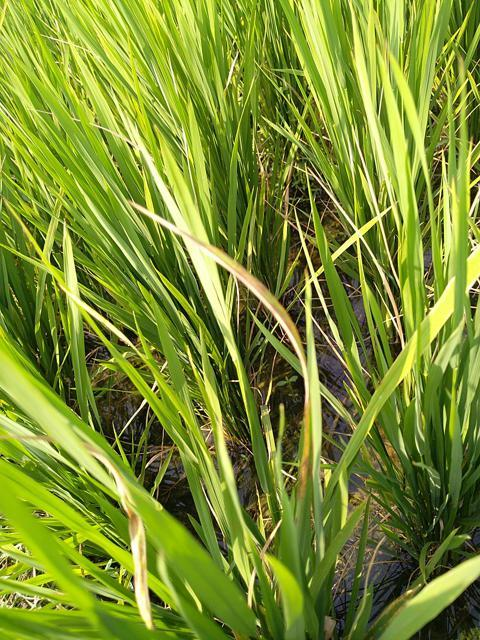Leaf Blight: (131, 201, 310, 525), (85, 448, 153, 631)
